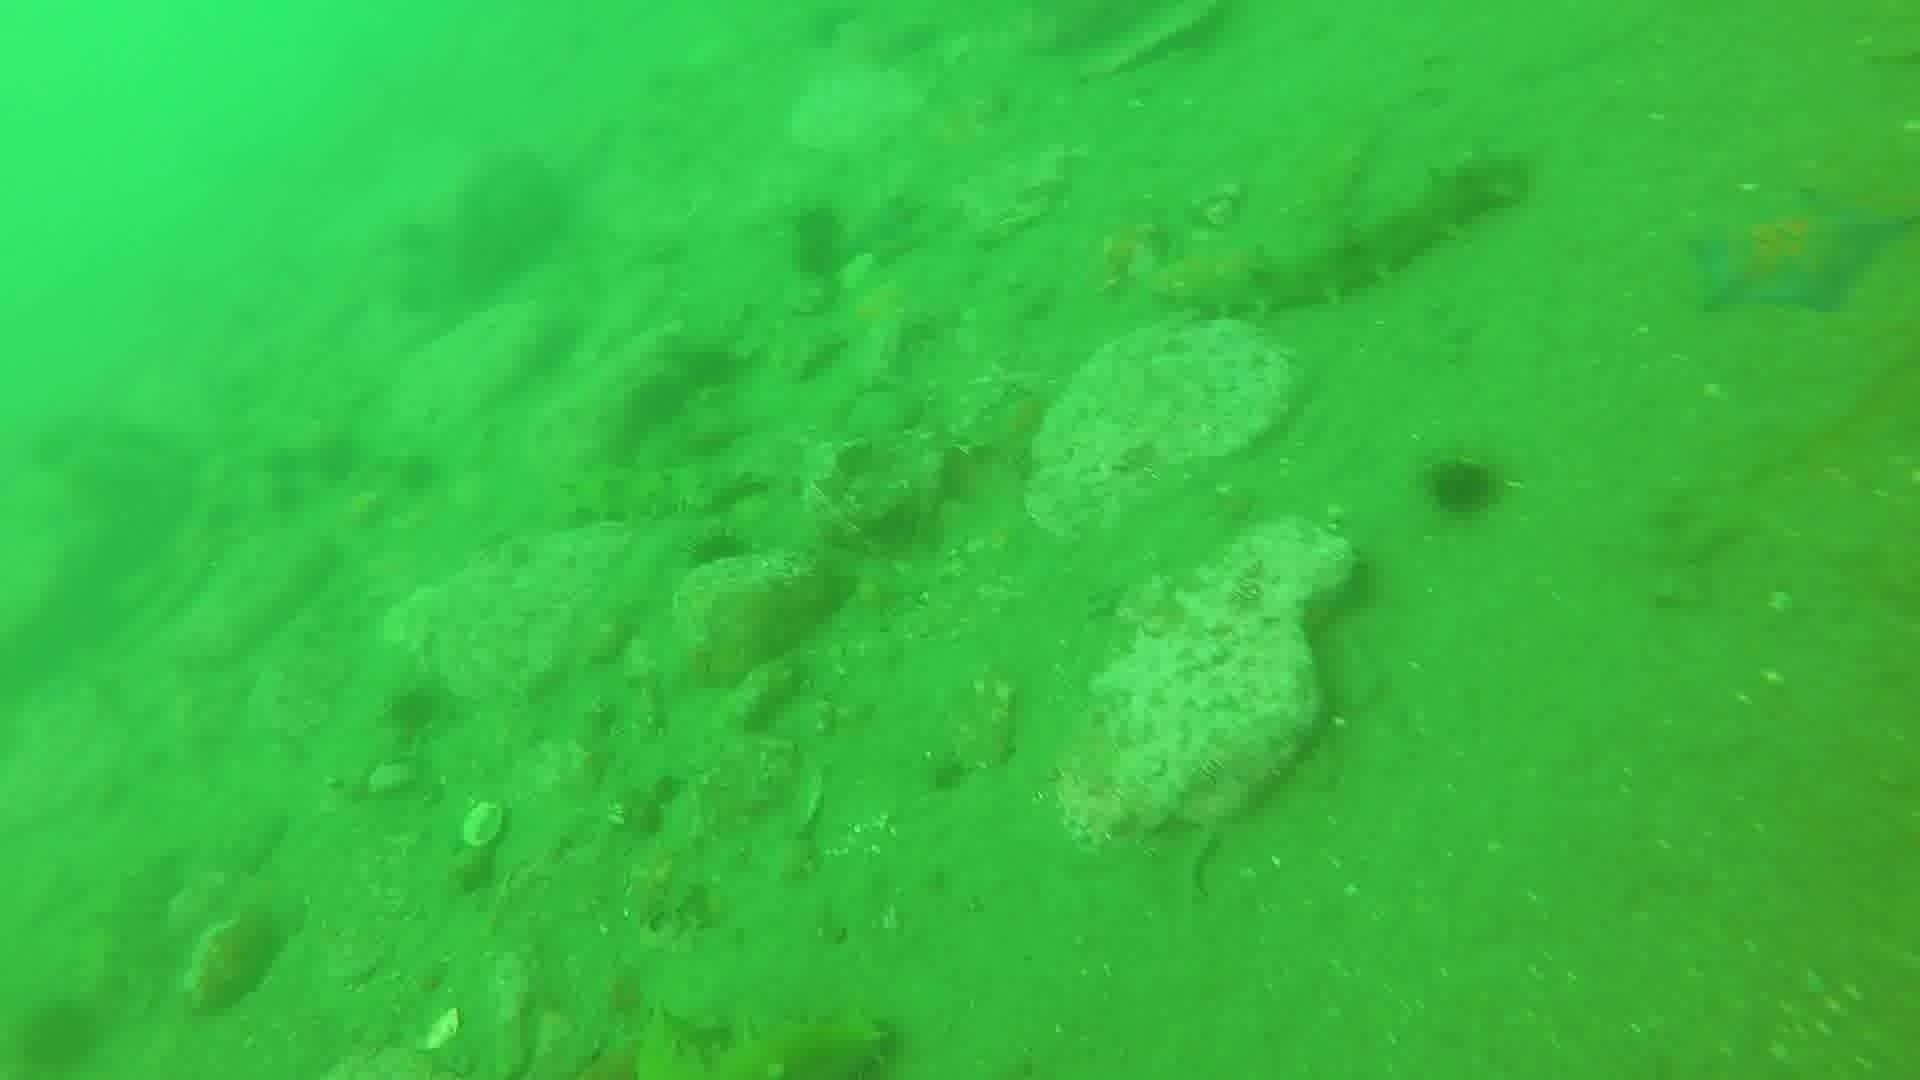echinus: (1420, 451, 1509, 524), (782, 200, 855, 284), (378, 676, 452, 744)
holothurian: (1158, 142, 1532, 328), (636, 1004, 895, 1077), (556, 458, 760, 531)
starfish: (1685, 183, 1909, 320), (824, 258, 934, 371)
